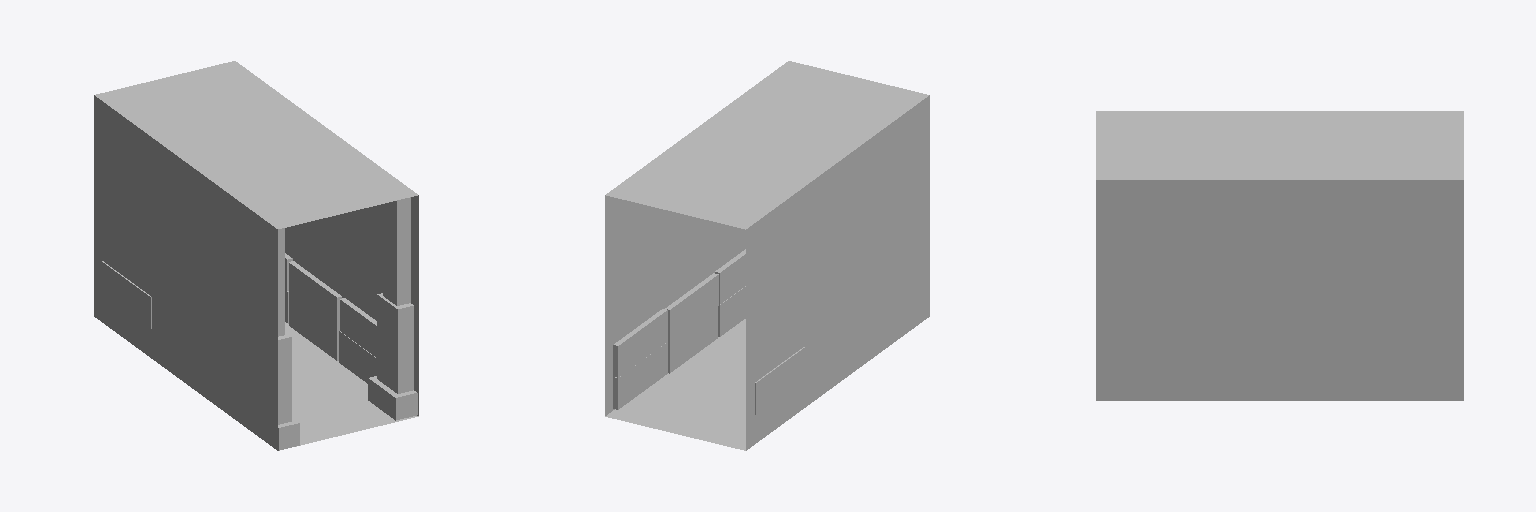
File: couloir.obj
The picture shows the model from 3 angles: view 1: azimuth 30°, elevation 25°; view 2: azimuth 150°, elevation 25°; view 3: azimuth 270°, elevation 25°; orthographic projection.
Parts seen in each view (by area): view 1: Plane, Cube.002, Cube.001, Cube.013_Cube.015, Cube.008, Cube.012_Cube.014, Cube.010_Cube.012, Cube.011_Cube.013; view 2: Plane, Cube.014_Cube.016, Cube.013_Cube.015, Cube.015_Cube.017, Cube.008, Cube.012_Cube.014, Cube.010_Cube.012, Cube.011_Cube.013; view 3: Plane, Cube.015_Cube.017.
Boxes of the visible parts, <box> form: Plane: <box>94,61,418,450</box>; Cube.002: <box>368,197,417,420</box>; Cube.001: <box>278,228,299,450</box>; Cube.013_Cube.015: <box>289,261,341,328</box>; Cube.008: <box>101,261,151,328</box>; Cube.012_Cube.014: <box>289,295,339,360</box>; Cube.010_Cube.012: <box>340,298,376,357</box>; Cube.011_Cube.013: <box>339,331,376,383</box>; Plane: <box>605,61,929,450</box>; Cube.014_Cube.016: <box>613,309,667,377</box>; Cube.013_Cube.015: <box>665,273,718,341</box>; Cube.015_Cube.017: <box>613,342,667,409</box>; Cube.008: <box>755,347,805,414</box>; Cube.012_Cube.014: <box>668,307,717,373</box>; Cube.010_Cube.012: <box>715,249,745,304</box>; Cube.011_Cube.013: <box>718,286,745,336</box>; Plane: <box>1096,111,1463,400</box>; Cube.015_Cube.017: <box>1348,368,1446,399</box>.
Size of the model in its own units: 2.02 by 3 by 4.52.